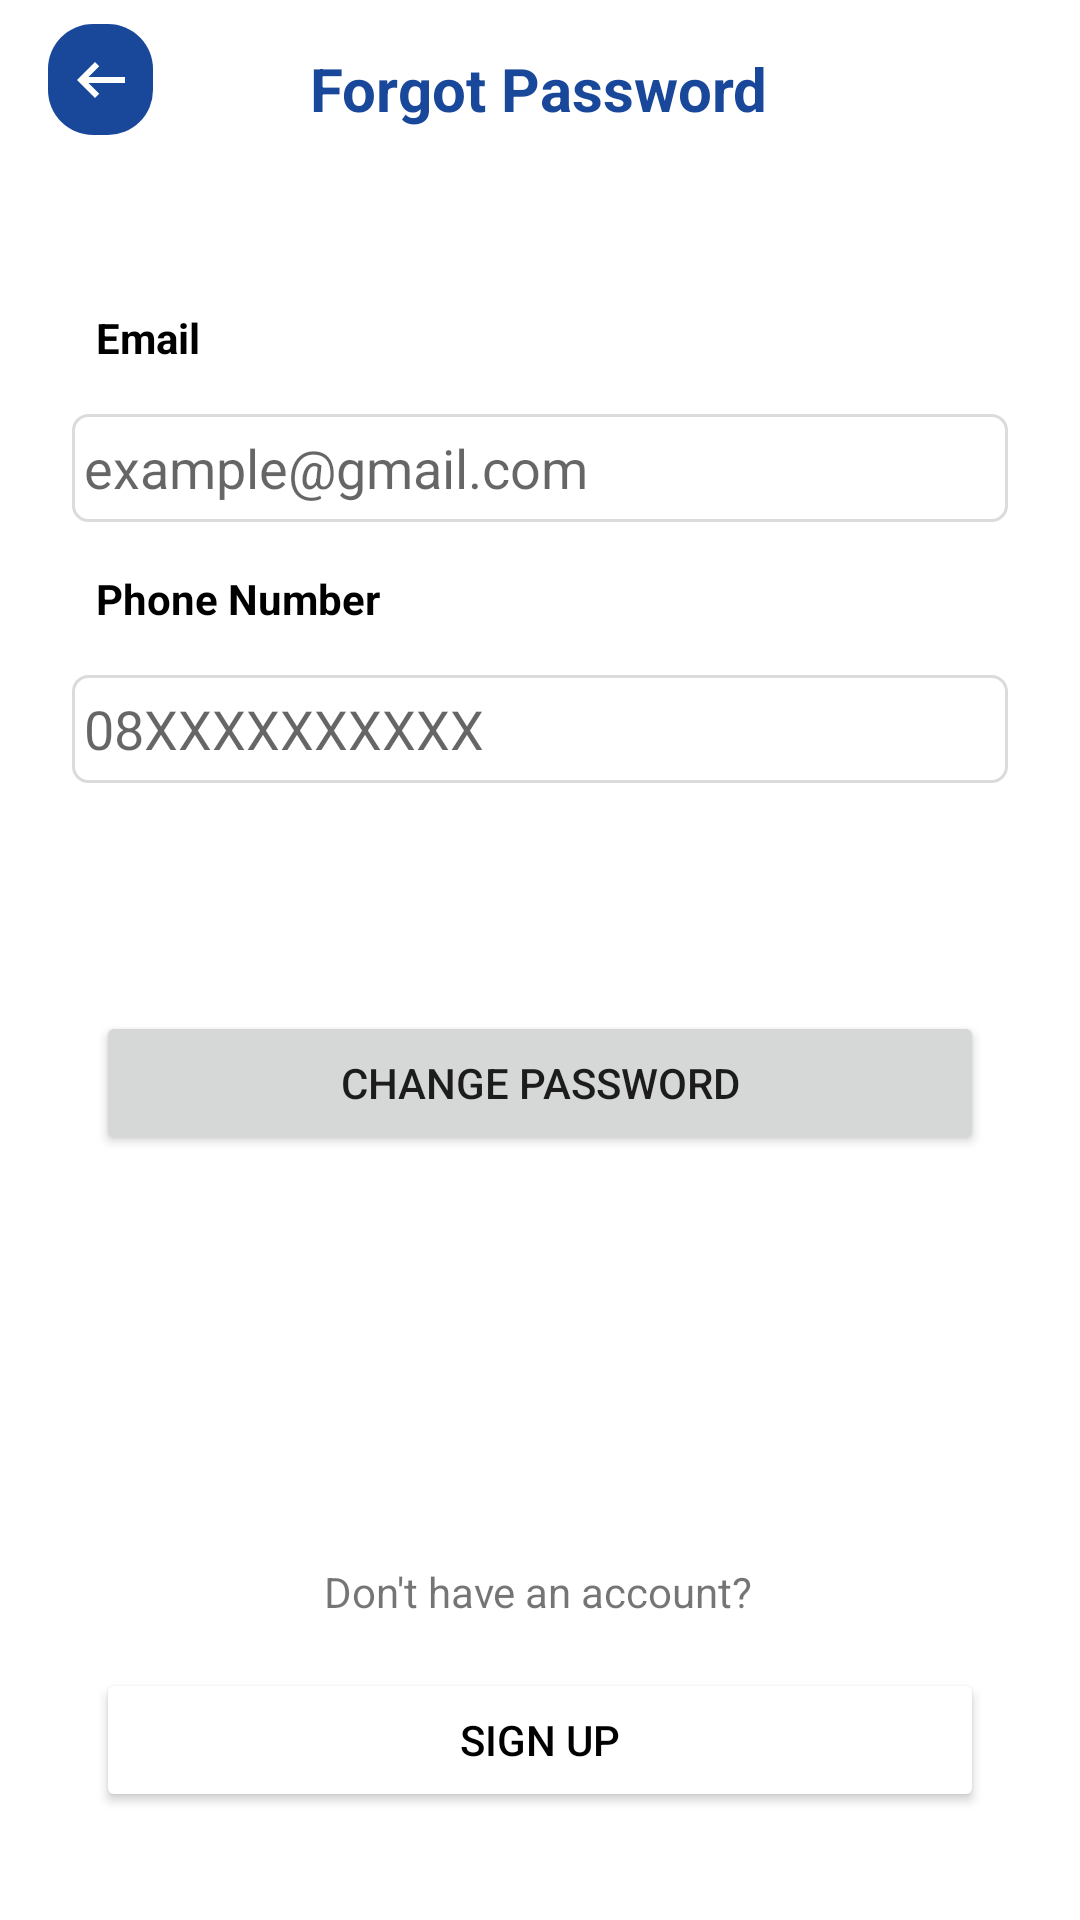

Where to tap for icons on this 1080px x 1920px app screen, as (x=x, y=y):
back: (x=100, y=79)
